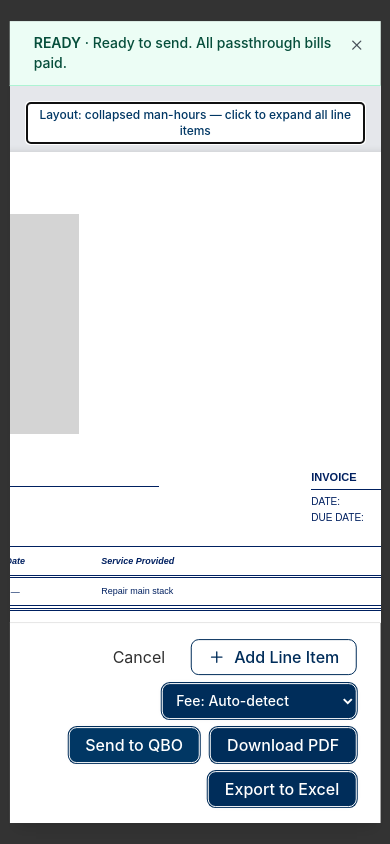
InvoicePreviewModal — pre-send review › renders only the unapproved section when nothing is unpaid
Click the button "Send to QBO" at x=134, y=745, box [68, 727, 200, 763]
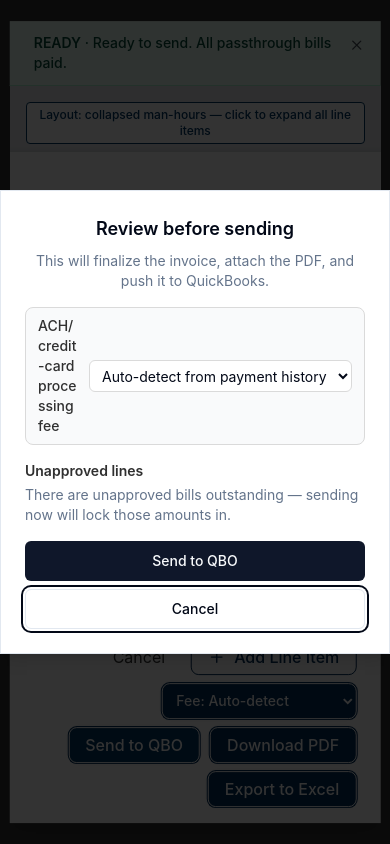
expect the text "Unapproved lines" is shown: met, box [25, 462, 143, 479]
expect the text "sending now will lock those amounts in" is shown: met, box [25, 486, 358, 523]
